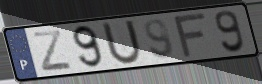9: (70, 24, 105, 70), (142, 18, 176, 61), (215, 9, 247, 54)
F: (172, 11, 209, 60)
U: (99, 18, 144, 67)
Z: (30, 28, 74, 73)
